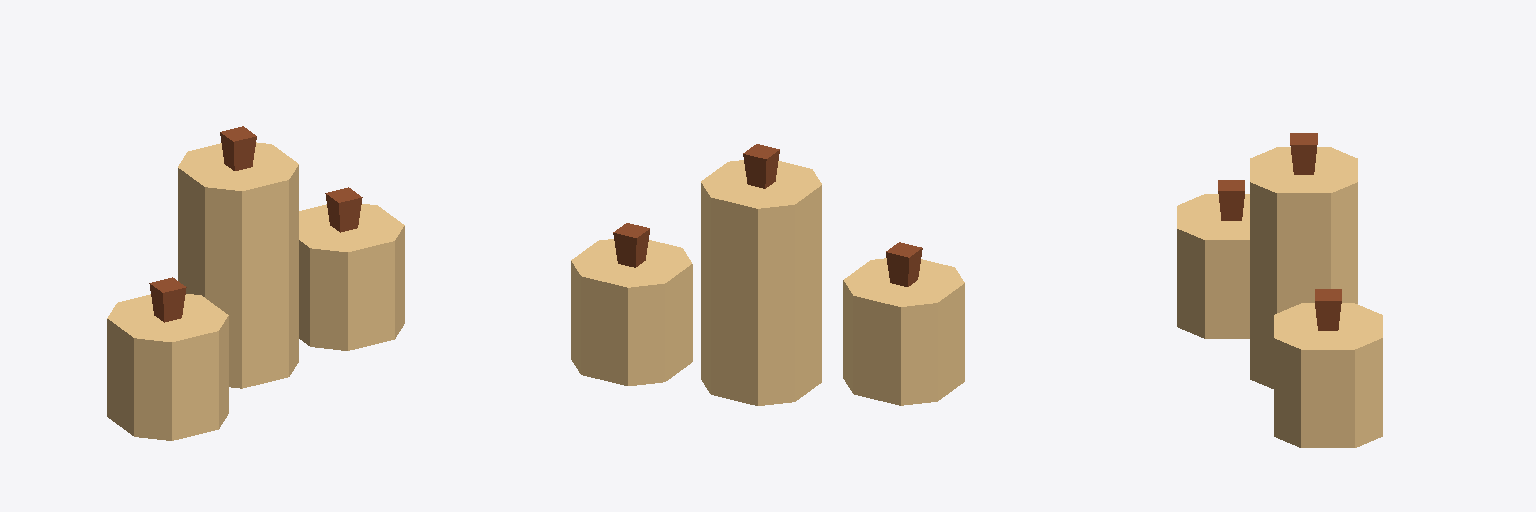
The model's file is candleMultiple.obj.
3 renders of one model, left to right at view 1: azimuth 30°, elevation 25°; view 2: azimuth 150°, elevation 25°; view 3: azimuth 270°, elevation 25°, orthographic.
Parts seen in each view (by area): view 1: candleMultiple; view 2: candleMultiple; view 3: candleMultiple.
Boxes of the visible parts, box(x1,y1,x2,y2) form: candleMultiple: box(107, 126, 404, 440); candleMultiple: box(571, 144, 964, 405); candleMultiple: box(1177, 133, 1382, 447).
Size of the model in its own units: 0.1688 by 0.116 by 0.0943.